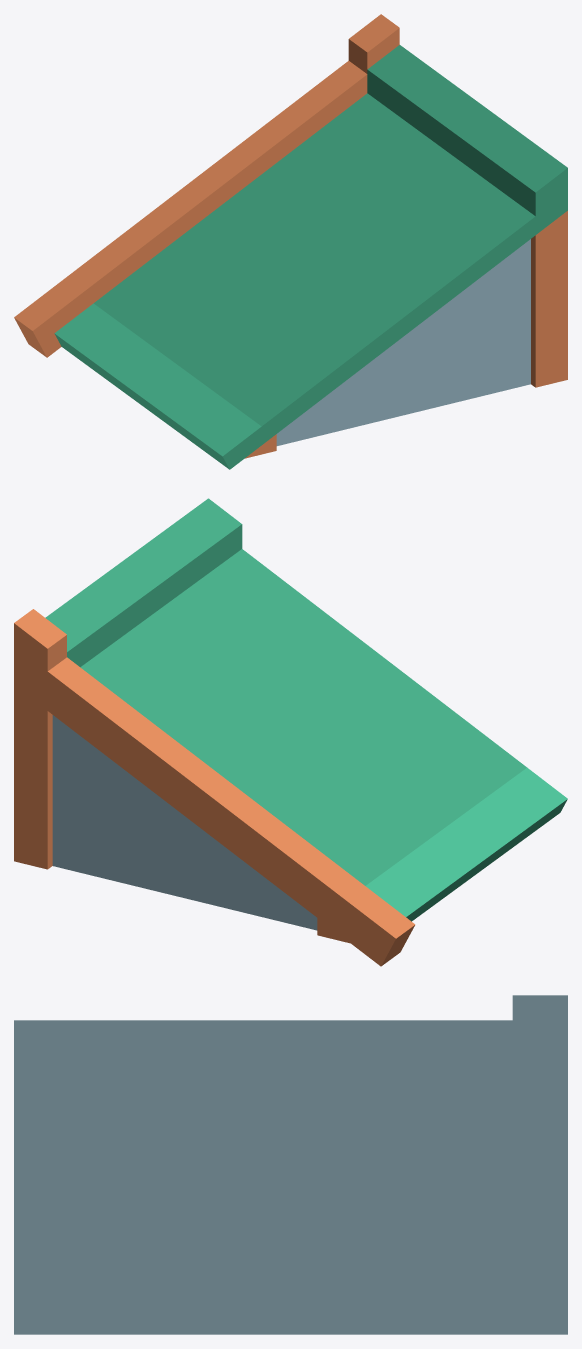
Rendered from roofLeft.fbx.
3 views of the same model, one above another, from view 1: azimuth 30°, elevation 25°; view 2: azimuth 150°, elevation 25°; view 3: azimuth 270°, elevation 25° (orthographic). The views are drawn at different scales.
Parts seen in each view (by area): view 1: roofLeft; view 2: roofLeft; view 3: roofLeft.
Boxes of the visible parts, bbox=[...] form: roofLeft: bbox=[14, 14, 567, 469]; roofLeft: bbox=[14, 498, 567, 966]; roofLeft: bbox=[14, 995, 567, 1334].
Size of the model in its own units: 11.34 by 7.21 by 10.
